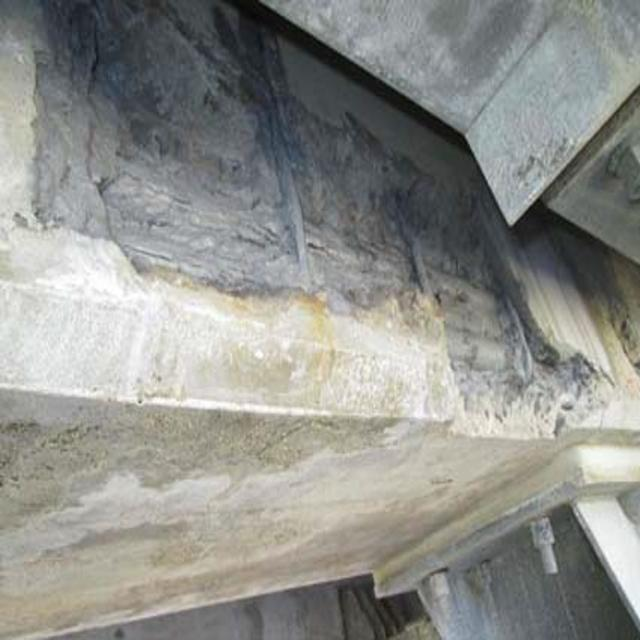spalling: (34, 16, 606, 433)
